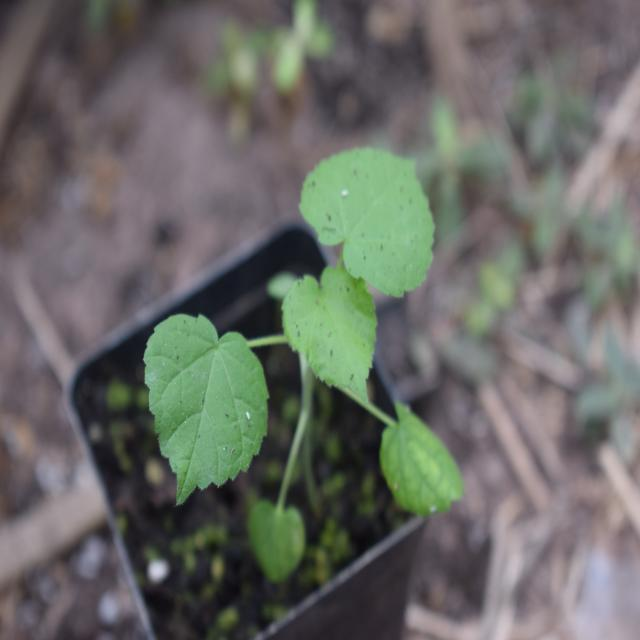abutilon theophrasti: (141, 134, 474, 536)
